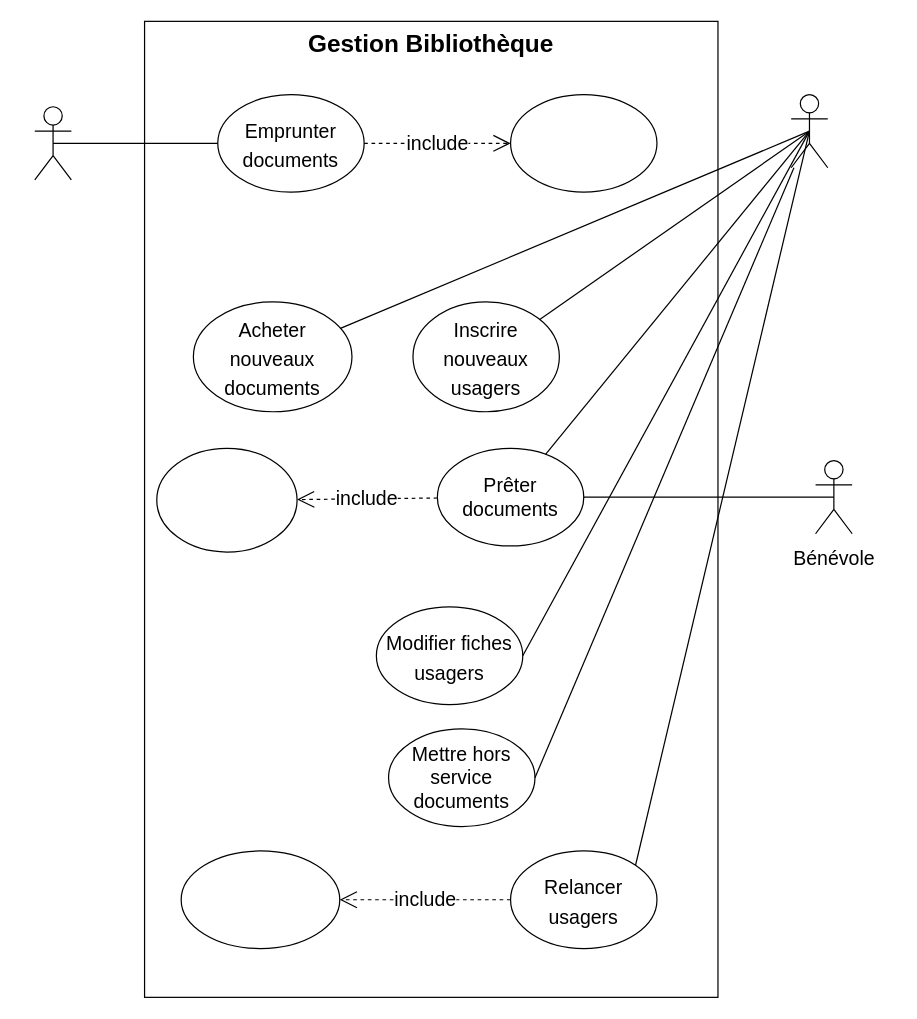
The diagram is 917 pixels wide and 1019 high, and some of its shapes have lost their labels. Each missing label, with the centre of its shape:
Consulter documents: the point at 583,142
Consulter état usagers: the point at 260,899
Enregistrer documents prêté: the point at 226,499
Personnel bibliothèque: the point at 809,130
Usager: the point at 52,143
